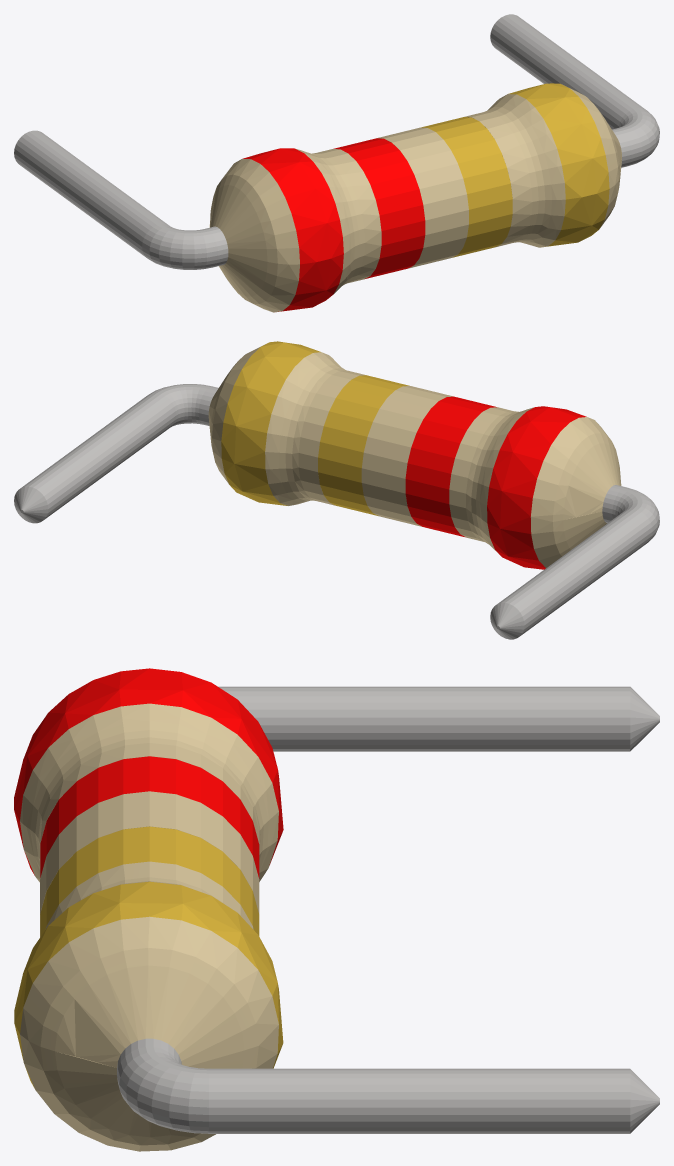
Rendered from Yageo CFR-25 Resistor Axial P7.62mm 2,2 Ohm.obj.
The picture shows the model from 3 angles, top to bottom: view 1: azimuth 30°, elevation 25°; view 2: azimuth 150°, elevation 25°; view 3: azimuth 270°, elevation 25°; orthographic projection. The views are drawn at different scales.
Parts seen in each view (by area): view 1: Yageo_CFR-25_Resistor_Axial_P7.62mm_2,2_Ohm; view 2: Yageo_CFR-25_Resistor_Axial_P7.62mm_2,2_Ohm; view 3: Yageo_CFR-25_Resistor_Axial_P7.62mm_2,2_Ohm.
Part boxes in pixels (x1=…): Yageo_CFR-25_Resistor_Axial_P7.62mm_2,2_Ohm: x1=14, y1=14, x2=659, y2=312; Yageo_CFR-25_Resistor_Axial_P7.62mm_2,2_Ohm: x1=14, y1=341, x2=659, y2=639; Yageo_CFR-25_Resistor_Axial_P7.62mm_2,2_Ohm: x1=14, y1=668, x2=659, y2=1151.
Size of the model in its own units: 0.0142 by 0.00391 by 0.00944.
